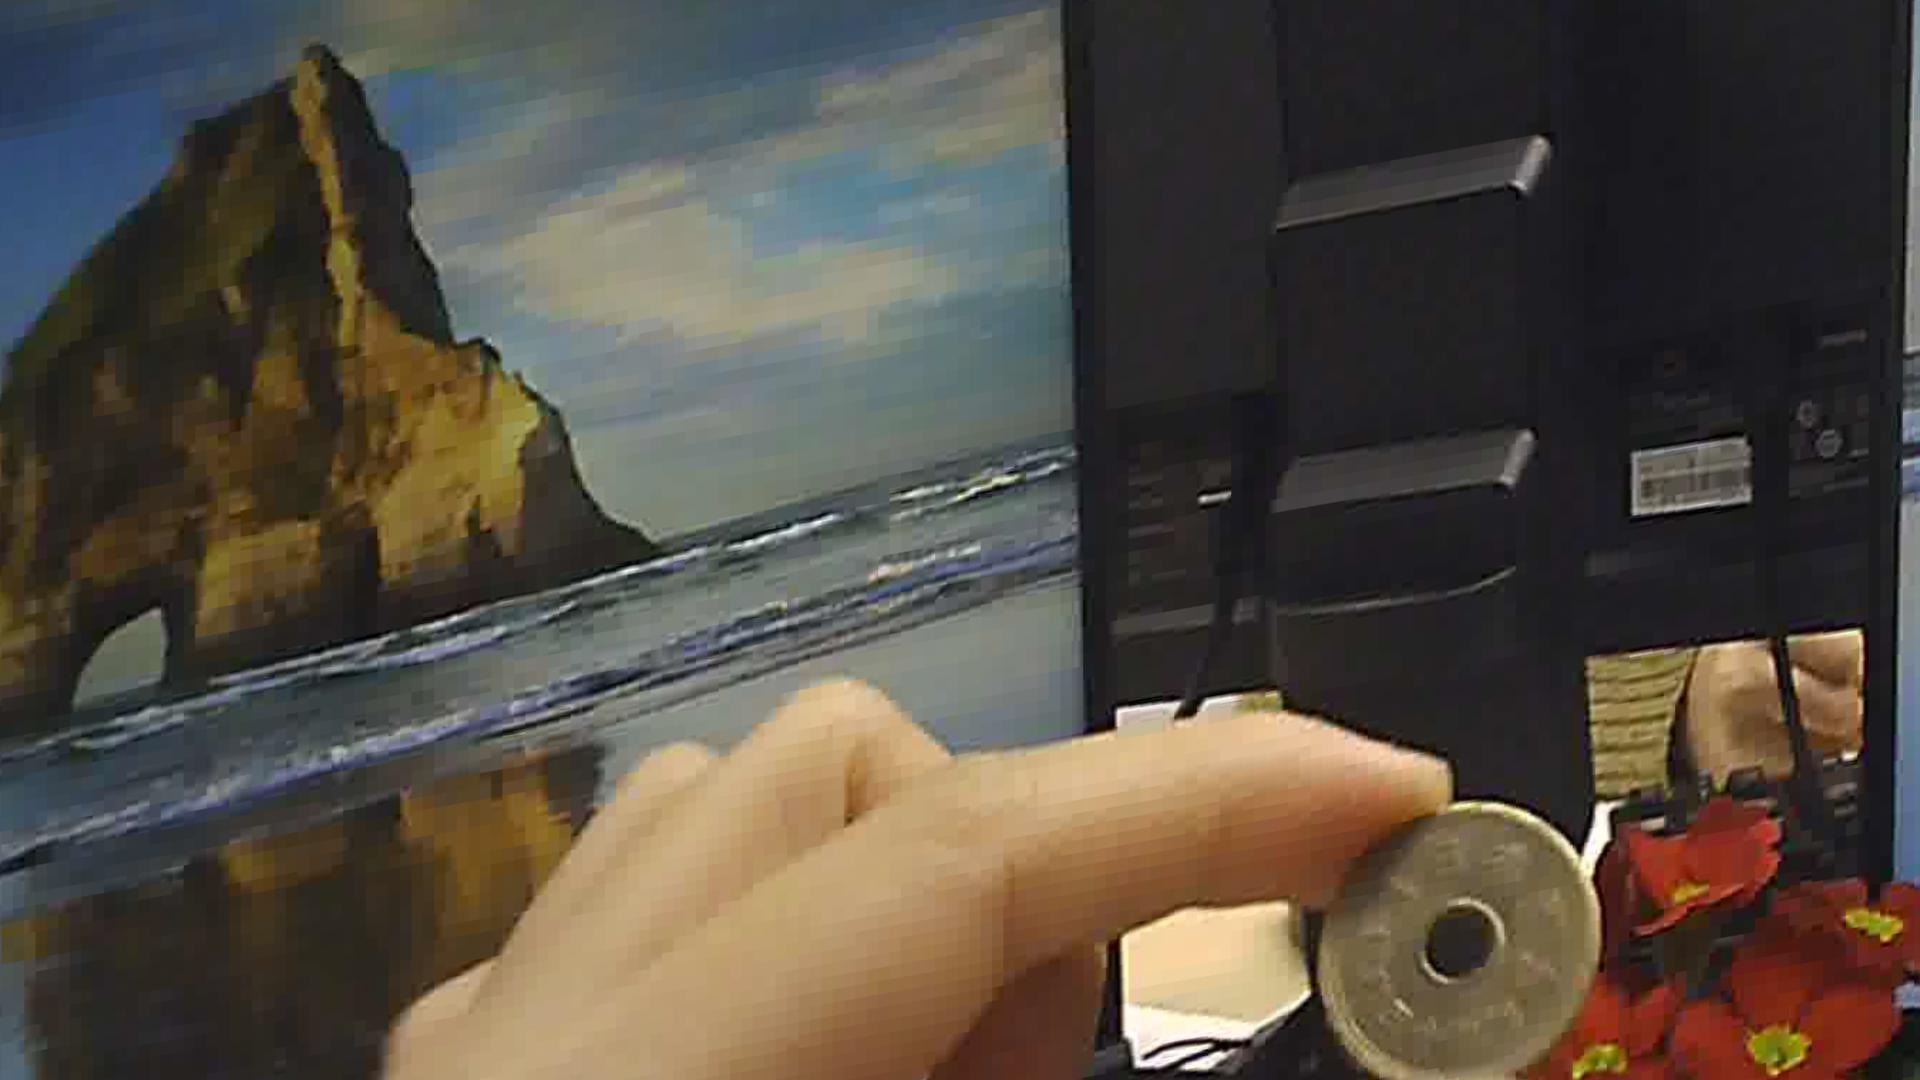5 Yen: (1305, 811, 1597, 1073)
